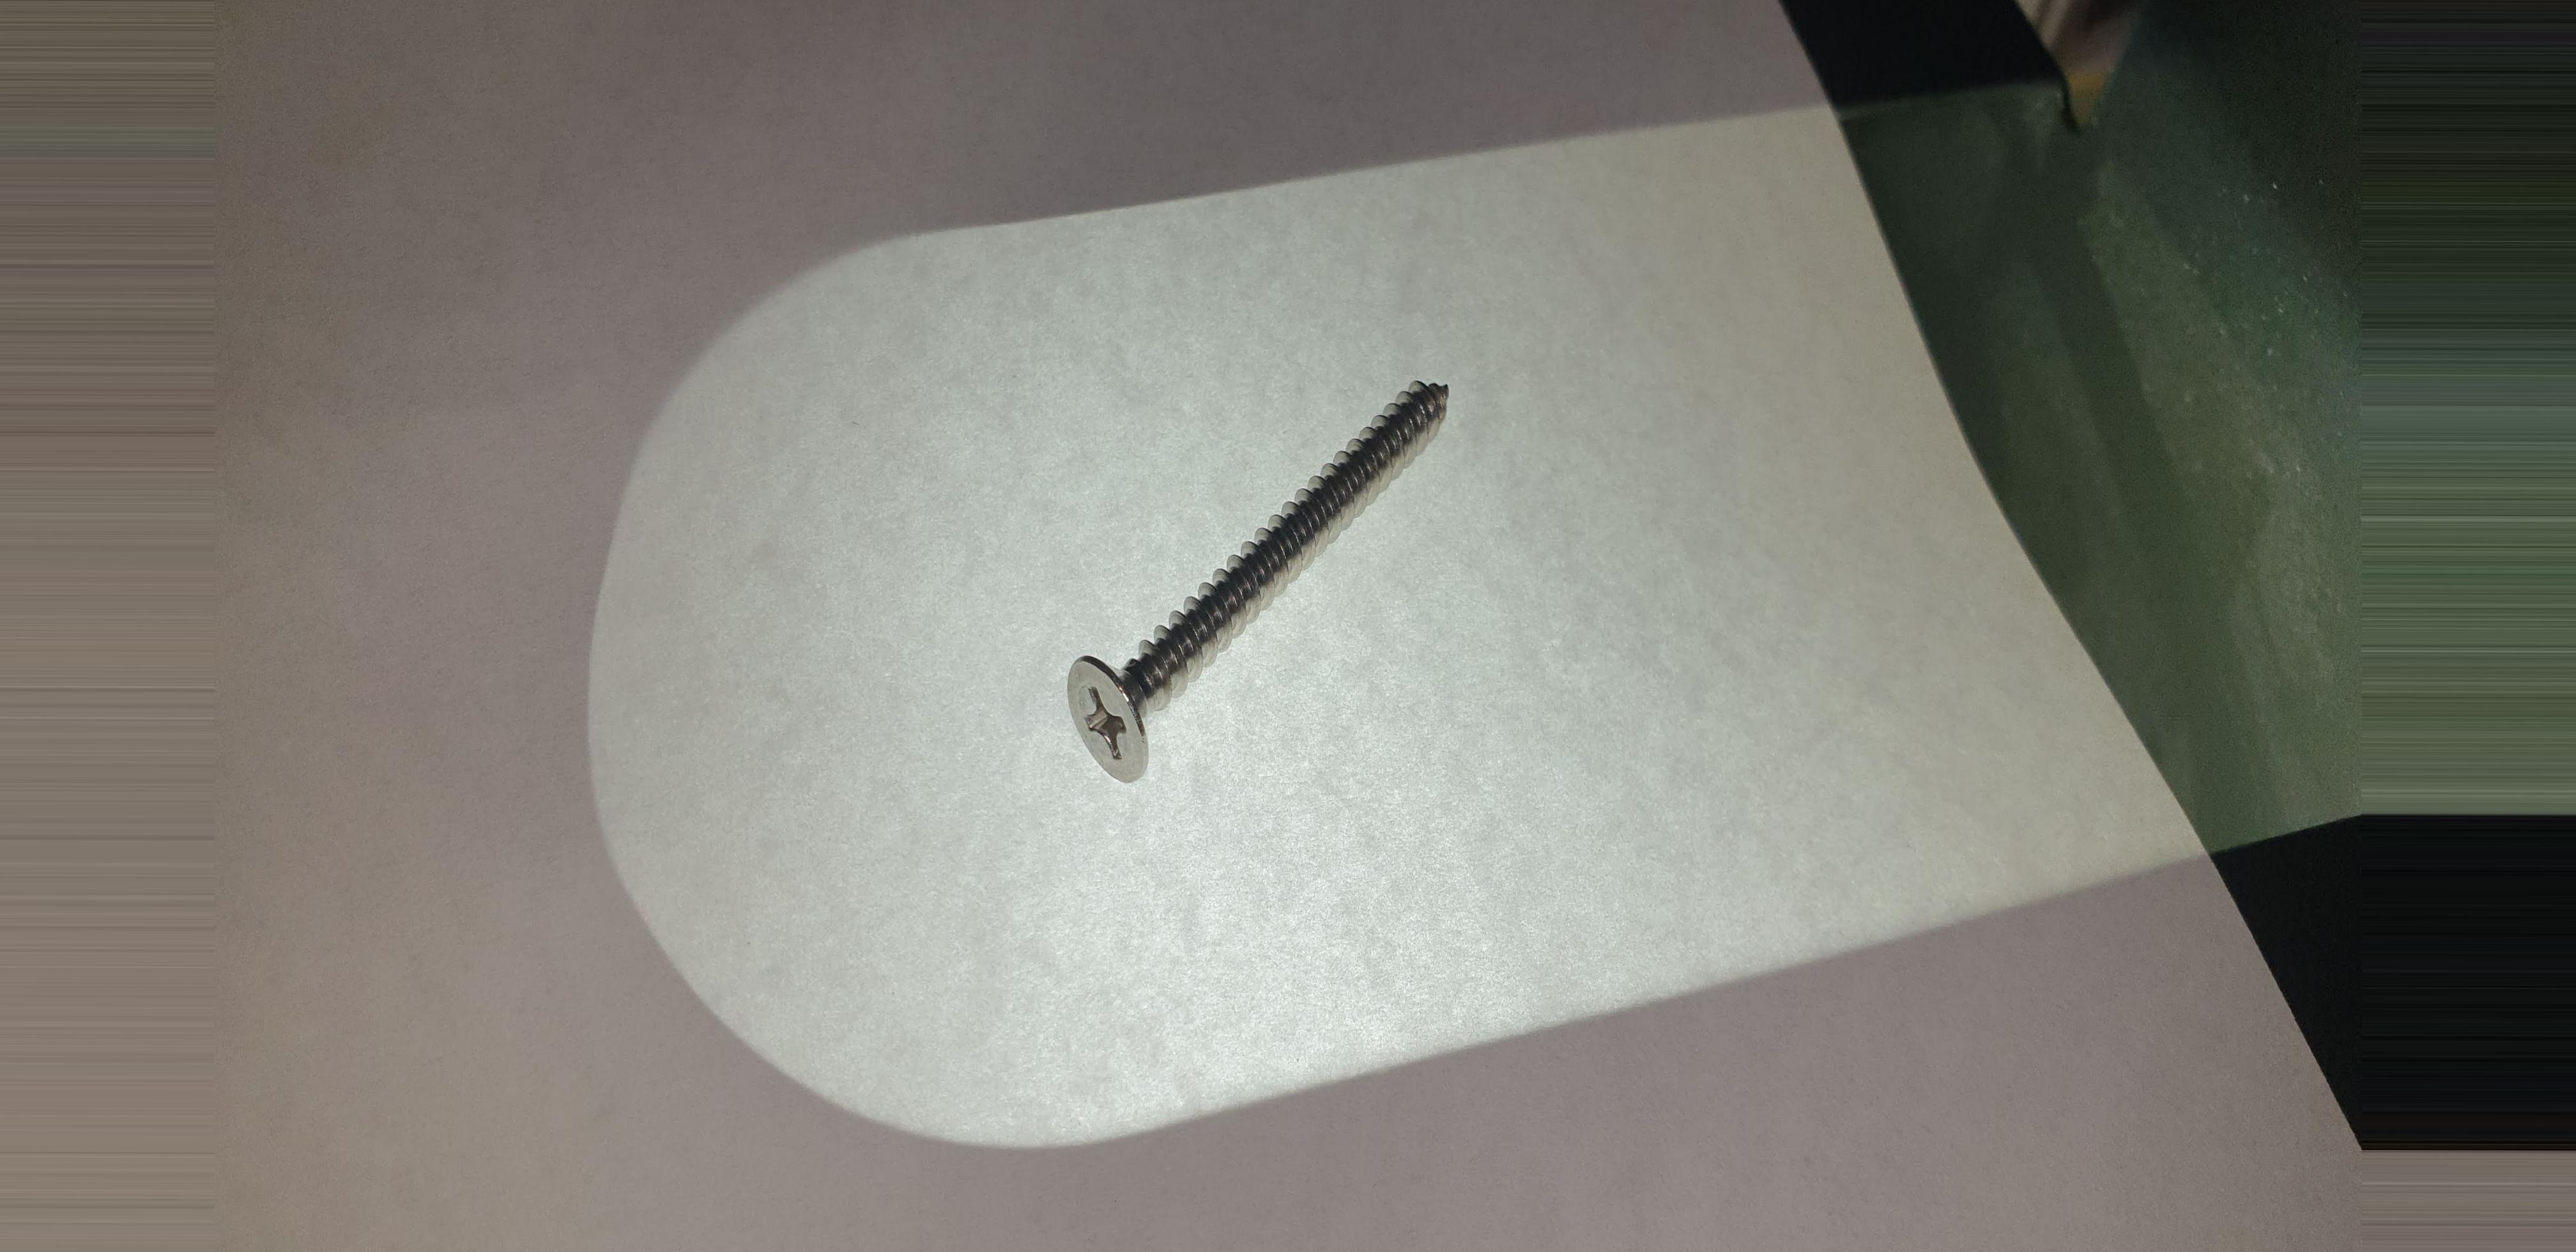fastener: (982, 370, 1559, 803)
